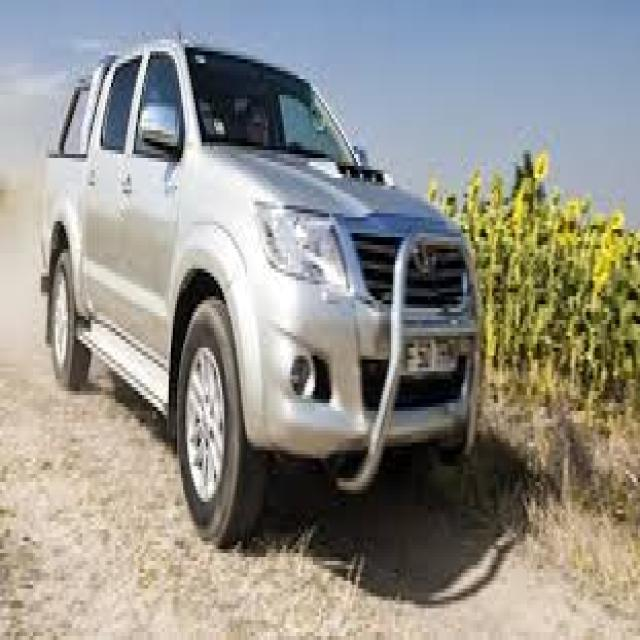Pickup Trucks: (37, 36, 484, 553)
